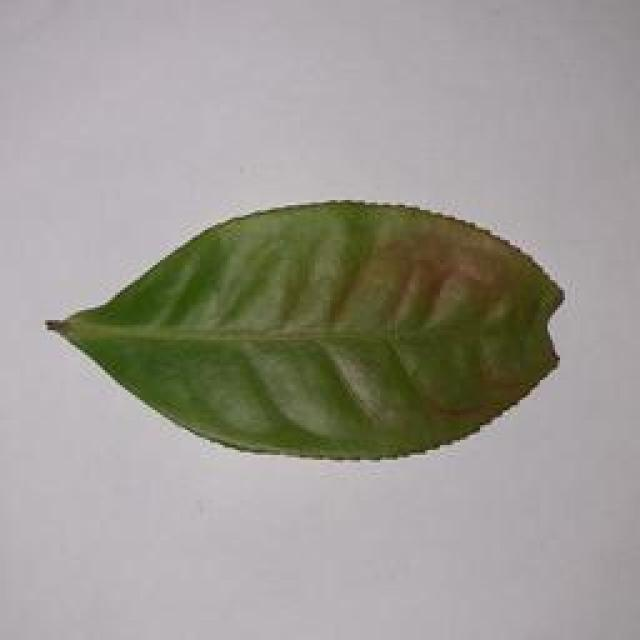Red Leaf Spot: (33, 189, 578, 461)
